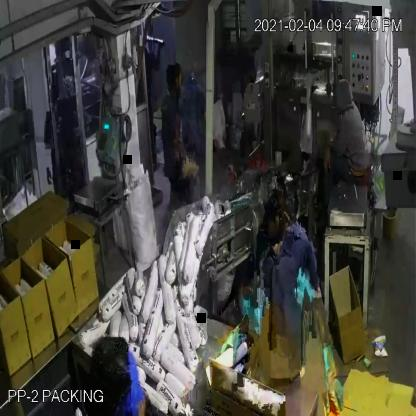no_glove: (320, 140, 336, 176)
